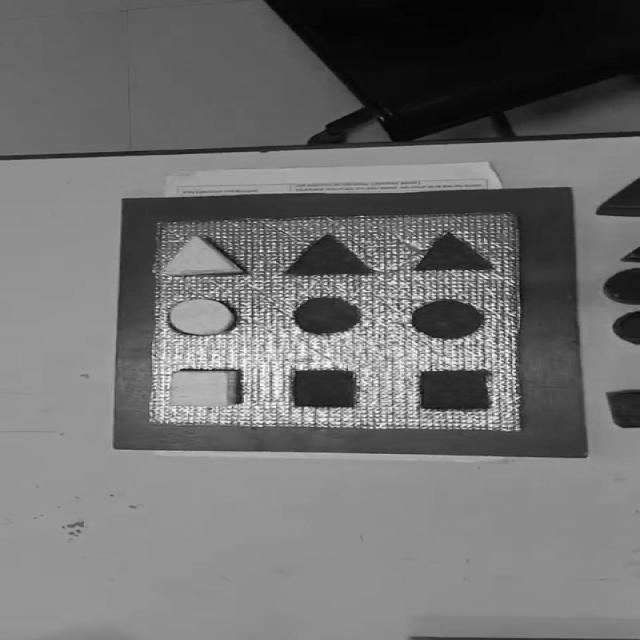bcircle: (612, 310, 640, 346)
bcube: (605, 388, 640, 429)
mtcircle: (407, 298, 489, 341), (292, 296, 363, 334)
mtcube: (417, 368, 492, 411), (290, 368, 358, 409)
mttriangle: (284, 232, 373, 277), (410, 230, 497, 274)
rcircle: (603, 267, 640, 304)
rtriangle: (595, 175, 639, 217)
wb: (144, 211, 526, 431)
ycircle: (166, 296, 239, 336)
ycube: (167, 367, 240, 408)
ytriangle: (162, 234, 246, 278)
